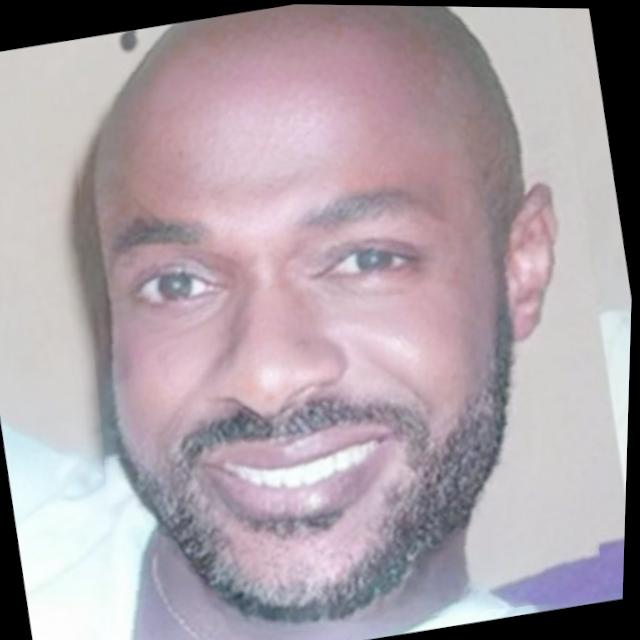happy: (27, 0, 640, 640)
